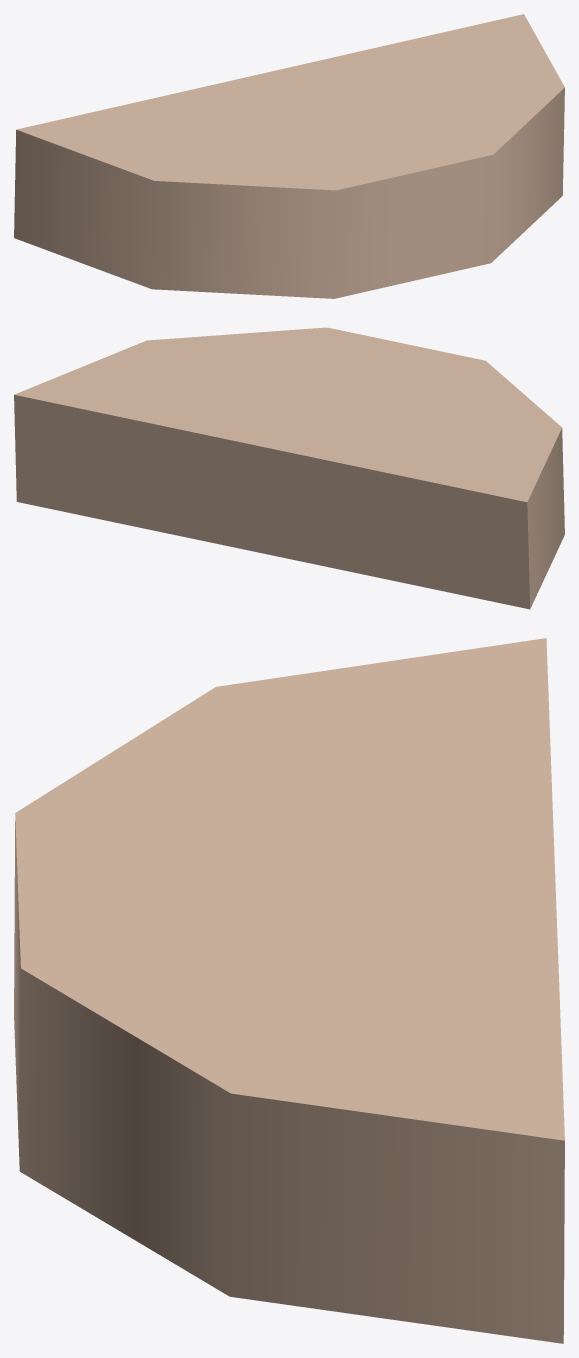
Rendered from SM_Shape_Half_Circle__02.fbx.
3 views of the same model, one above another, from view 1: azimuth 30°, elevation 25°; view 2: azimuth 150°, elevation 25°; view 3: azimuth 270°, elevation 25° (orthographic). The views are drawn at different scales.
Visible parts, largest first — view 1: SM_Shape_Half_Circle__02; view 2: SM_Shape_Half_Circle__02; view 3: SM_Shape_Half_Circle__02.
Boxes of the visible parts, x1=… form: SM_Shape_Half_Circle__02: x1=14, y1=14, x2=564, y2=298; SM_Shape_Half_Circle__02: x1=14, y1=327, x2=564, y2=609; SM_Shape_Half_Circle__02: x1=14, y1=638, x2=564, y2=1343.
Bounding box in the file's own units: 8.44 × 1.89 × 4.1.
